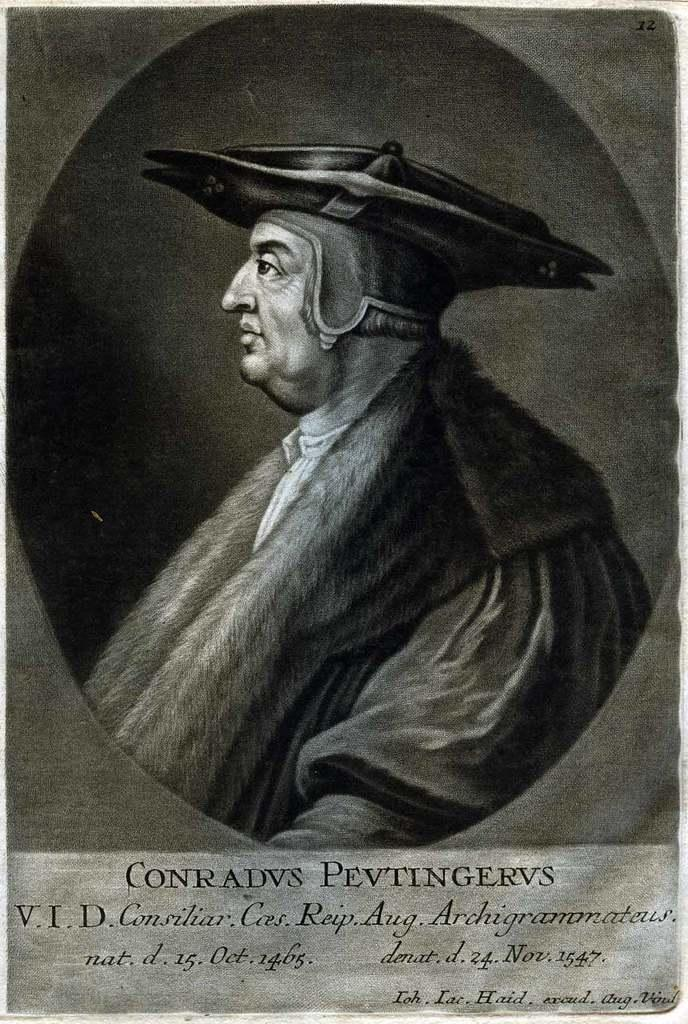Hat: (145, 145, 620, 292)
